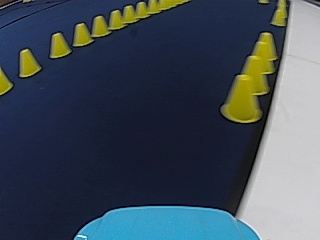cone: (220, 73, 261, 122), (239, 54, 269, 94), (249, 31, 278, 72), (17, 48, 40, 77), (48, 31, 70, 58), (72, 22, 91, 46), (91, 15, 108, 36), (0, 67, 13, 94), (270, 4, 286, 25), (108, 9, 123, 29), (121, 4, 135, 23), (134, 1, 148, 18)
